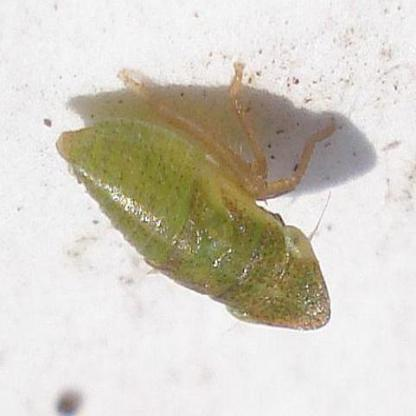green-leafhopper: (61, 69, 334, 326)
